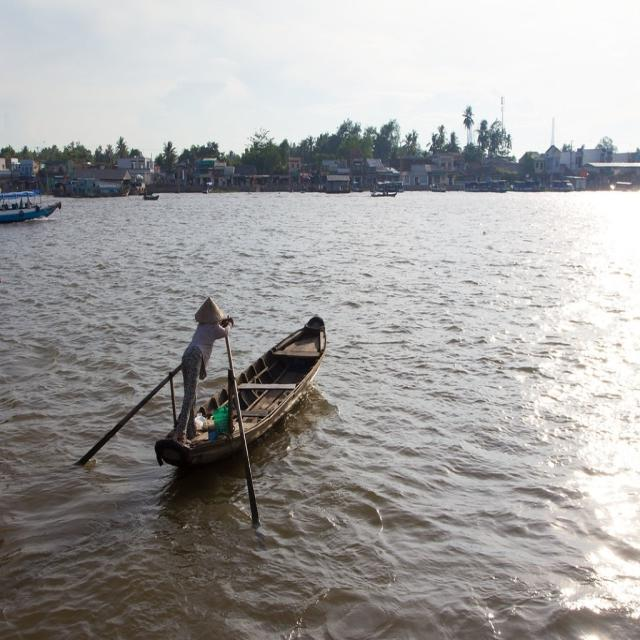boat: (160, 304, 340, 470), (366, 172, 412, 205), (143, 194, 161, 204)
